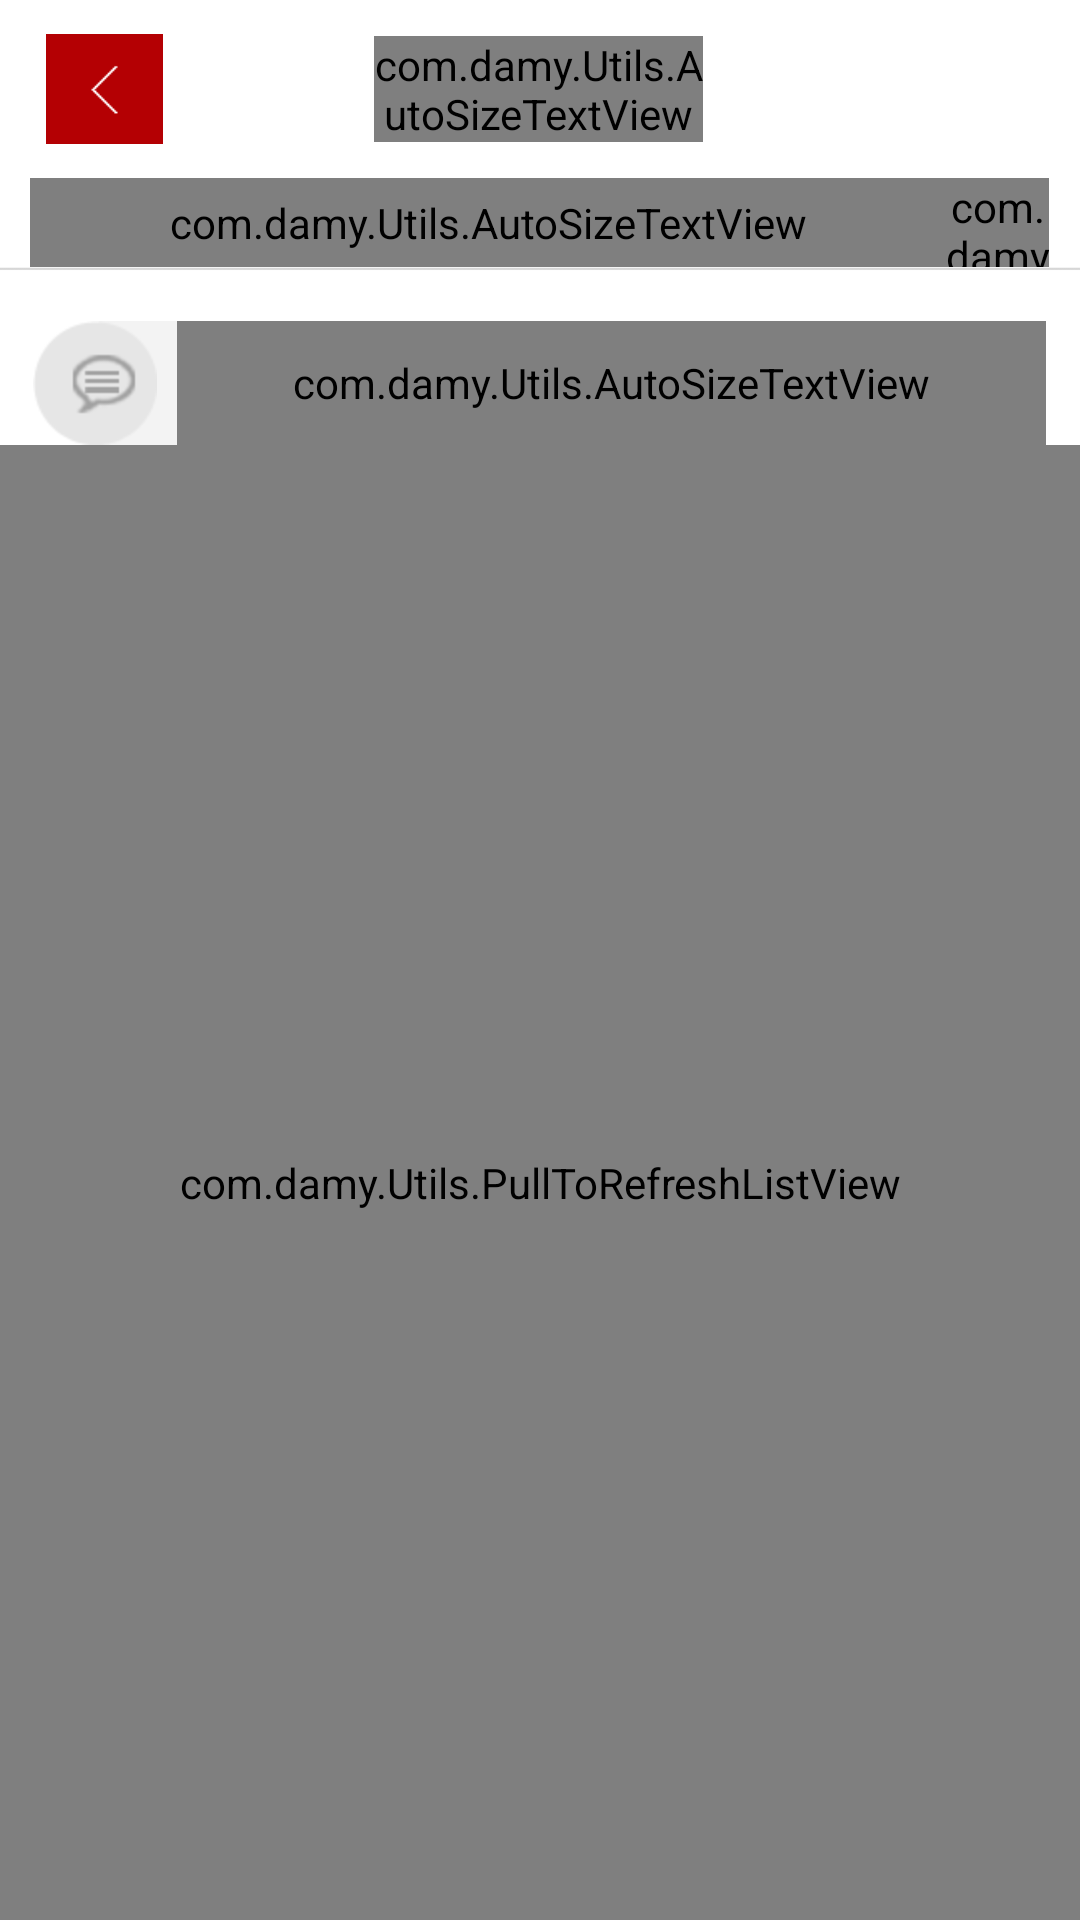

Where to tap for icons on this 1080×1920 app screen, as [x,y]:
navigate topleft: [104,89]
singleact info evalicon: [96,384]
